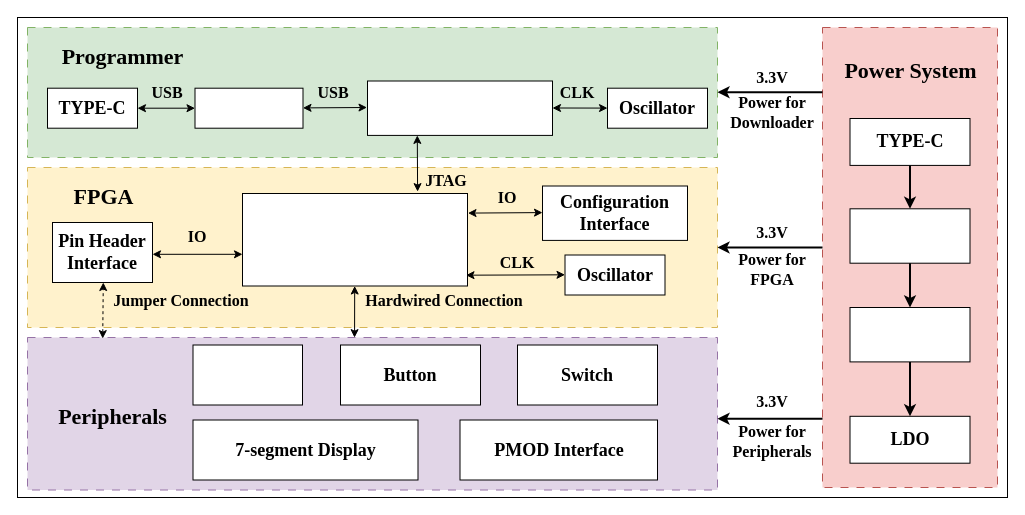
The diagram is 1025 pixels wide and 515 high, and some of its shapes have lost their labels. The shapes that lost their labels are listed below. From the top down, each one's centre as x and y in pixels, then its label:
(248,107): TVS Diode
(459,107): GWU2X Downloader
(355,239): GW1N-UV9QN48C6/I5
(909,235): Main Power Switch
(909,334): Resettable Fuse
(247,374): LED
